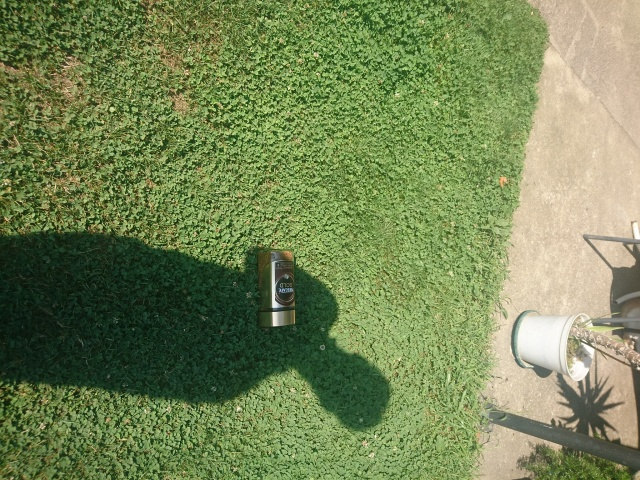Nescafe Gold 225g: (254, 246, 298, 330)
